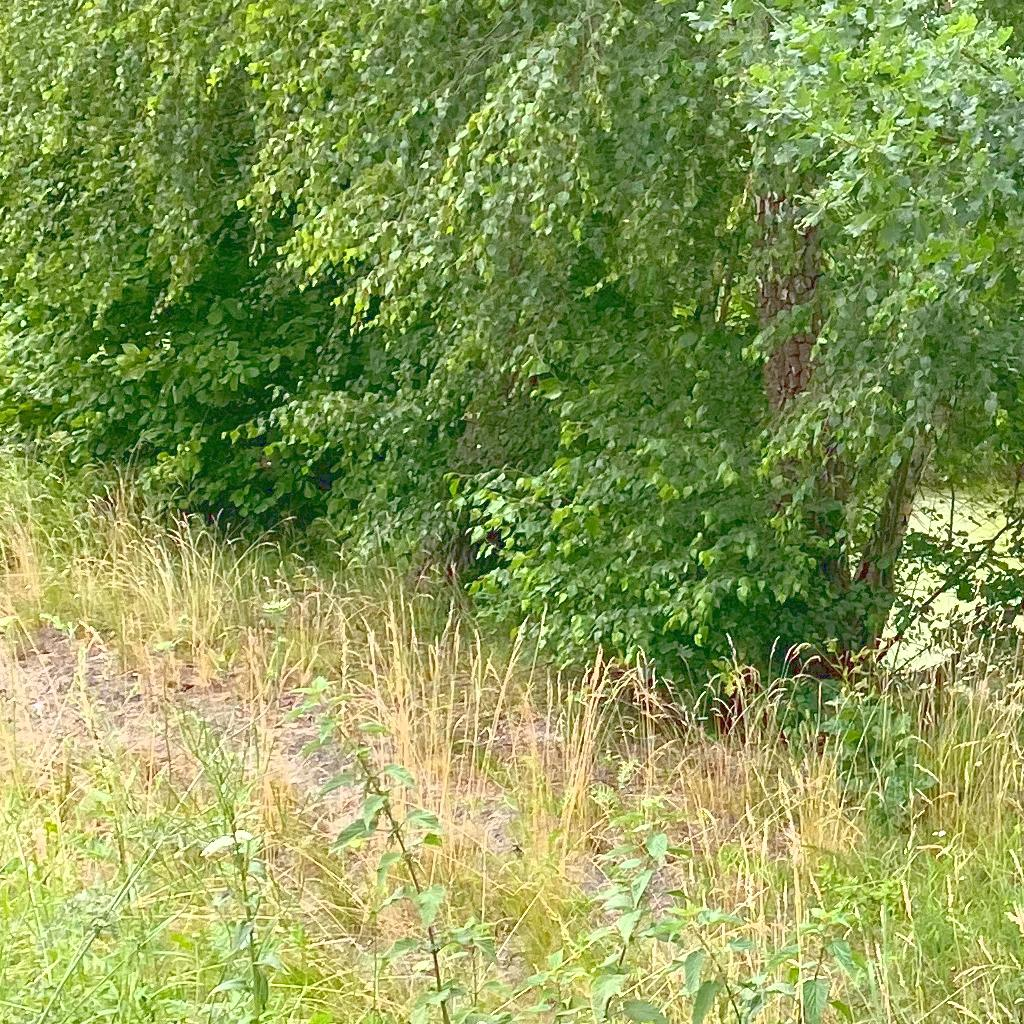tree: (1, 1, 1024, 747)
